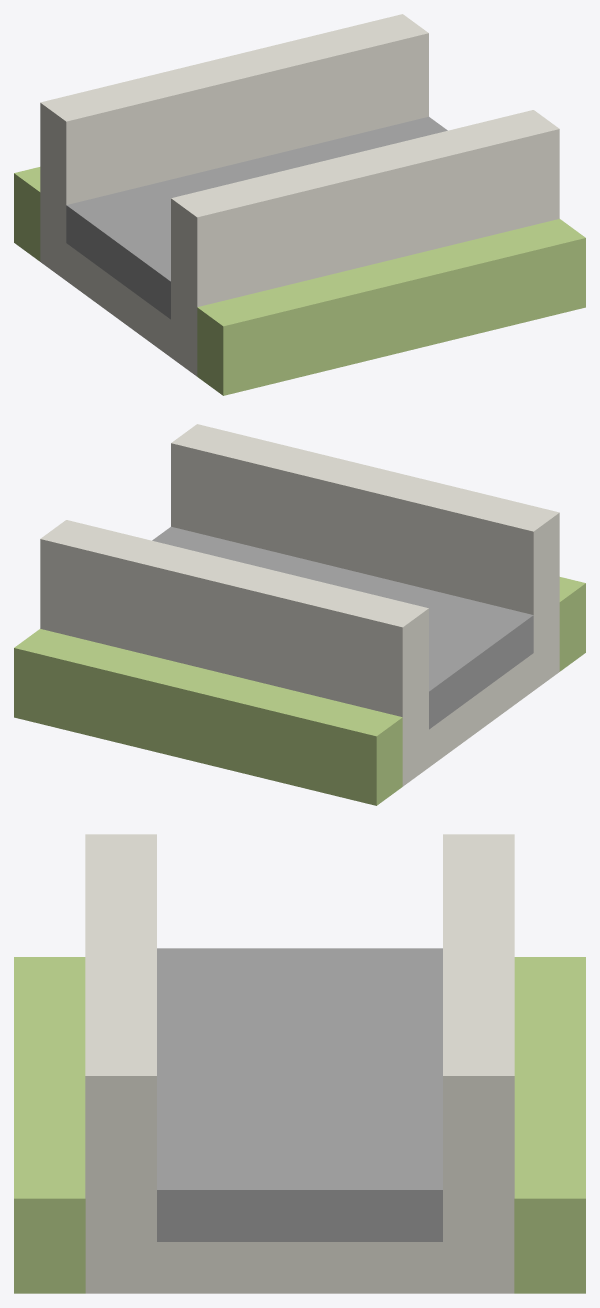
The model's file is road_tile_182.glb.
3 views of the same model, one above another, from view 1: azimuth 30°, elevation 25°; view 2: azimuth 150°, elevation 25°; view 3: azimuth 270°, elevation 25° (orthographic). The views are drawn at different scales.
Parts seen in each view (by area): view 1: roadTile_182; view 2: roadTile_182; view 3: roadTile_182.
Part boxes in pixels (x1,y1,x2,y2): roadTile_182: (14, 14, 585, 395); roadTile_182: (14, 424, 585, 805); roadTile_182: (14, 834, 585, 1293).
Size of the model in its own units: 3 by 1.26 by 3.
